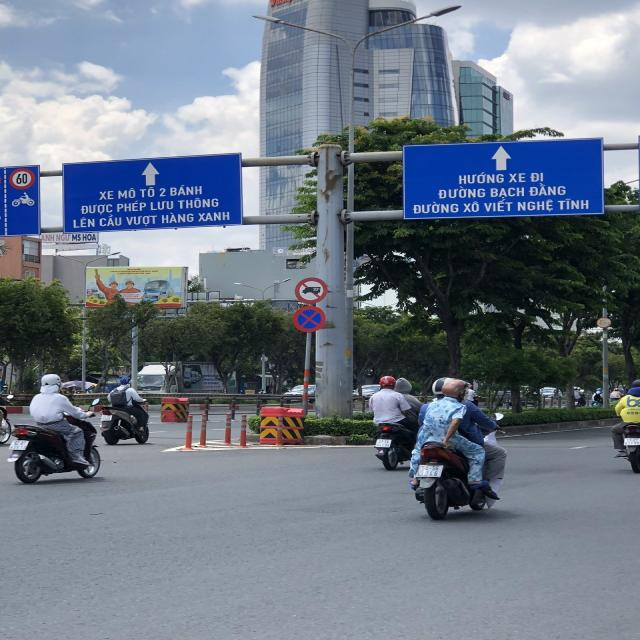Bien bao cam dung xe va do xe: (290, 302, 330, 338)
Bien bao cam xe oto tai: (291, 275, 331, 302)
Bien bao toc do toi da cho phep: (6, 164, 40, 191)
